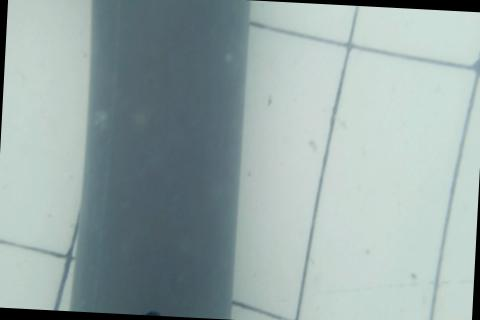kebocoran: (131, 309, 161, 316)
